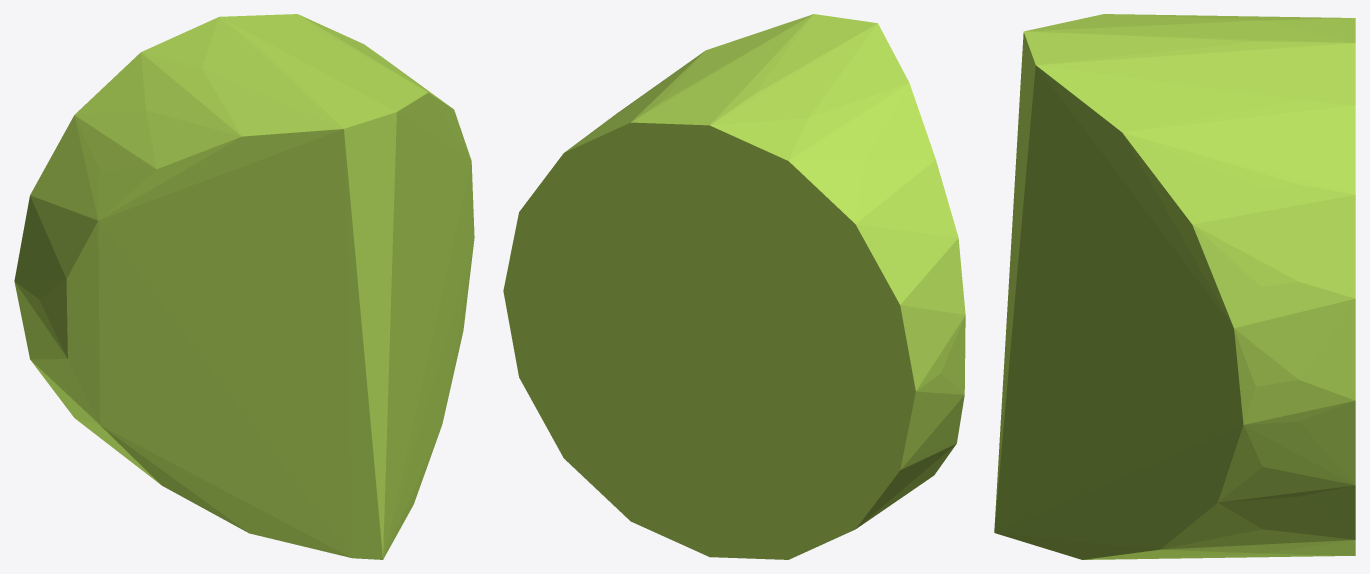
Rendered from industrial_06397_link_5_respondable_respondable_respondable_respondable_respondable_respondable_coll_3.dae.
The picture shows the model from 3 angles, left to right: view 1: azimuth 30°, elevation 25°; view 2: azimuth 150°, elevation 25°; view 3: azimuth 270°, elevation 25°; orthographic projection. The views are drawn at different scales.
Parts seen in each view (by area): view 1: node; view 2: node; view 3: node.
Boxes of the visible parts, x1=… form: node: x1=14, y1=14, x2=474, y2=559; node: x1=503, y1=14, x2=965, y2=559; node: x1=994, y1=14, x2=1355, y2=559.
Bounding box in the file's own units: 0.0752 × 0.0752 × 0.0504.
